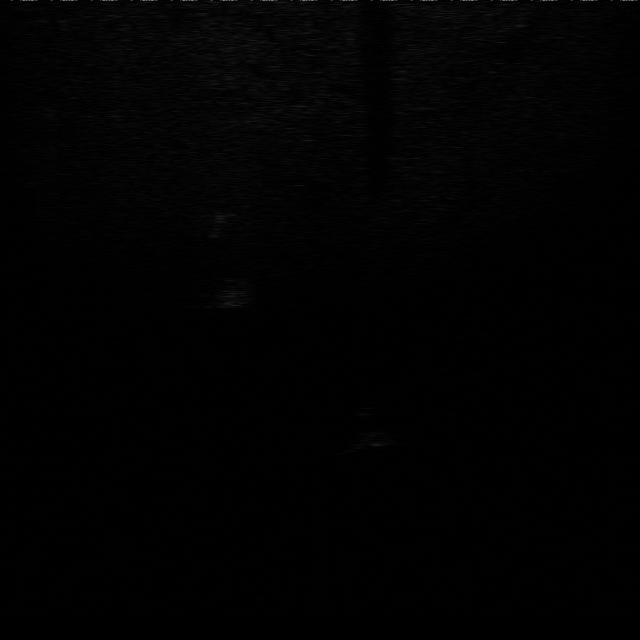ball: (195, 201, 241, 237)
circle cage: (204, 276, 258, 313)
tyre: (345, 405, 405, 451)
